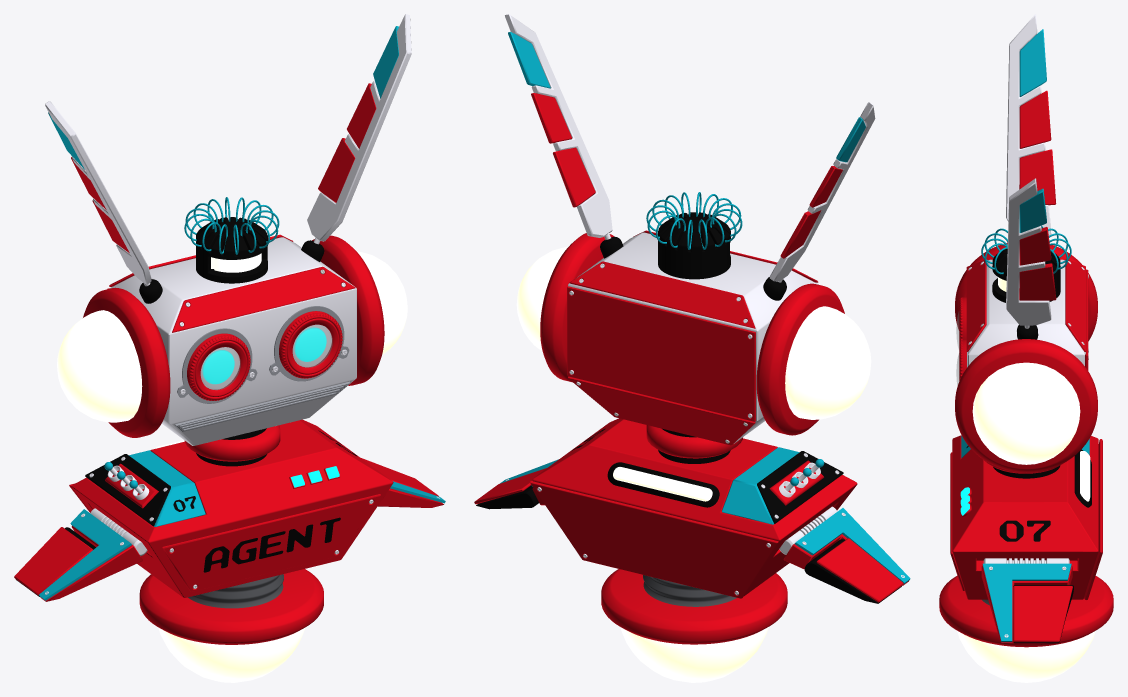
The model's file is bee_bot8_red.glb.
3 views of the same model, side by side, from view 1: azimuth 30°, elevation 25°; view 2: azimuth 150°, elevation 25°; view 3: azimuth 270°, elevation 25° (orthographic). The views are drawn at different scales.
Parts seen in each view (by area): view 1: Cube.058; view 2: Cube.058; view 3: Cube.058.
Boxes of the visible parts, bbox=[...] form: Cube.058: bbox=[14, 14, 445, 682]; Cube.058: bbox=[474, 14, 910, 682]; Cube.058: bbox=[939, 14, 1113, 682].
Size of the model in its own units: 0.6985 by 1.02 by 0.278.
